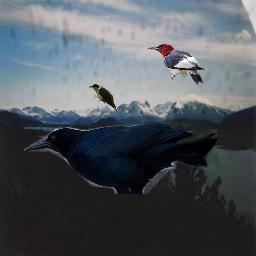Crow: (24, 122, 217, 194)
Cuckoo: (88, 84, 118, 114)
Woodpecker: (147, 44, 205, 85)
